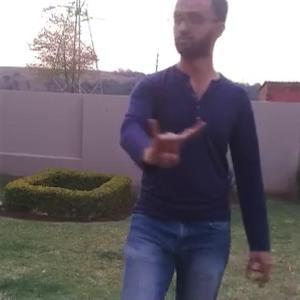takeoff-hand: (142, 109, 210, 176)
